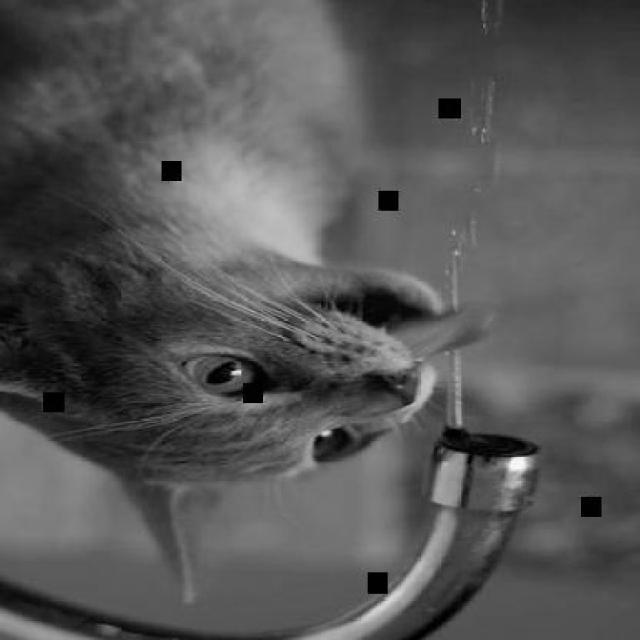Cat: (0, 0, 502, 606)
